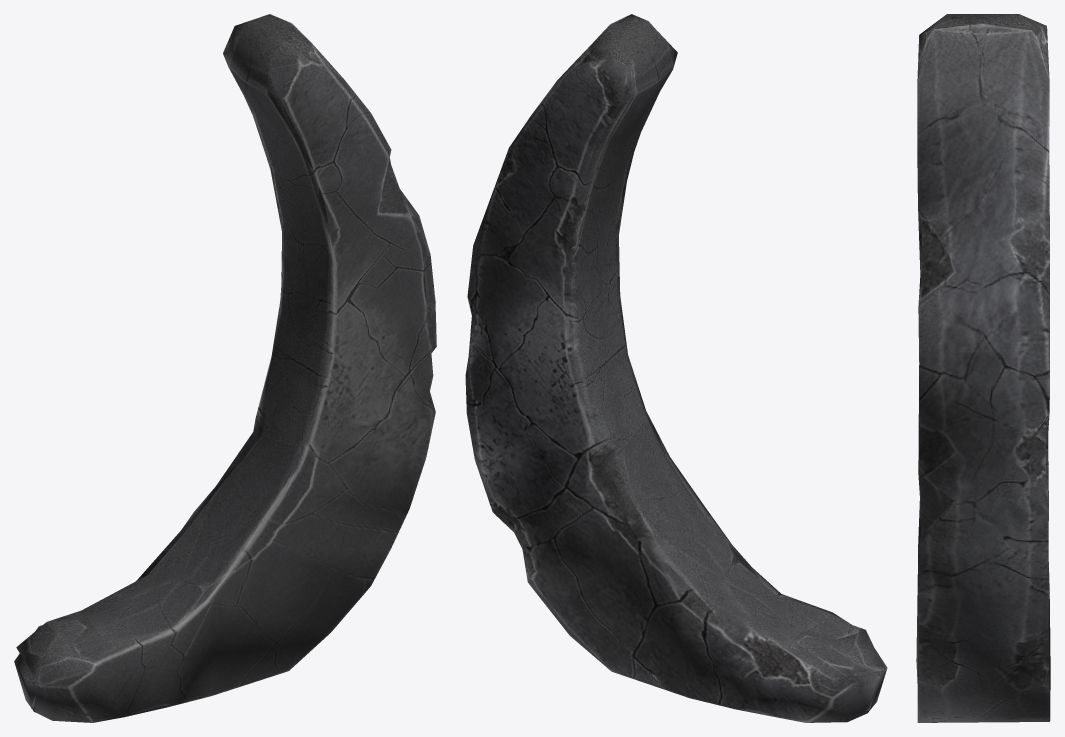
The model's file is Meshy_AI_Cracked_Crescent_0921233649_texture.glb.
The picture shows the model from 3 angles, left to right: view 1: azimuth 30°, elevation 25°; view 2: azimuth 150°, elevation 25°; view 3: azimuth 270°, elevation 25°; orthographic projection. The views are drawn at different scales.
Size of the model in its own units: 0.6484 by 1 by 0.168.
1 material, 1 textured.
